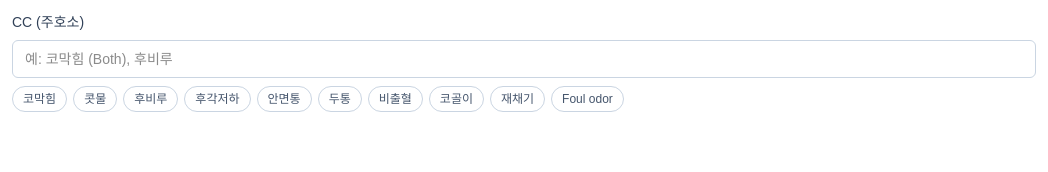
Test case: CcInput › 증상을 누르면 들어가고, 옆에 나온 방향을 고르면 그 증상에만 붙는다
The image size is (1048, 172).
Click the button "코막힘". click: (40, 99)
box: [12,86,67,112]
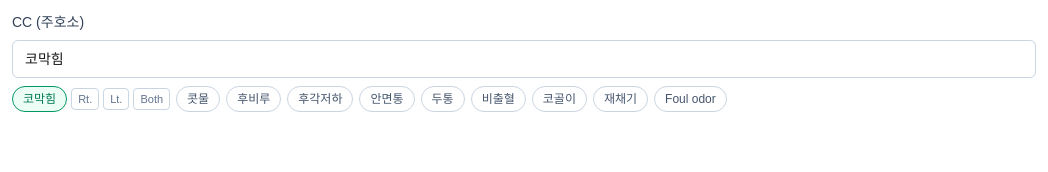
Expected: the field named "chiefComplaint" holds "코막힘", [12,40,1036,78]
Click the button "Both". click: (152, 99)
box: [133,88,170,110]
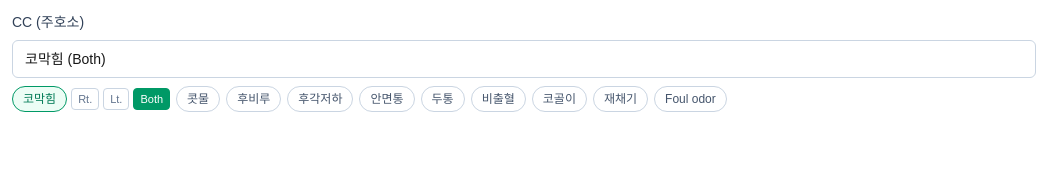
Click the button "후비루". click: (254, 99)
box: [226,86,281,112]
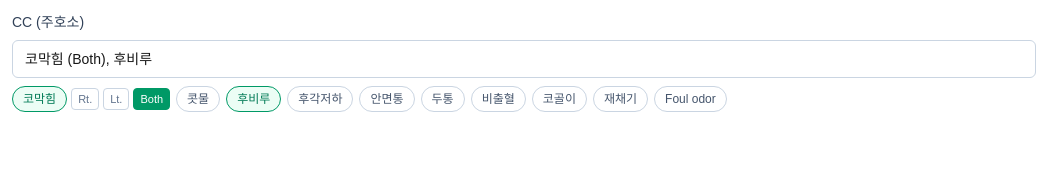
Click the button "Foul odor". click: (690, 99)
box: [654,86,727,112]
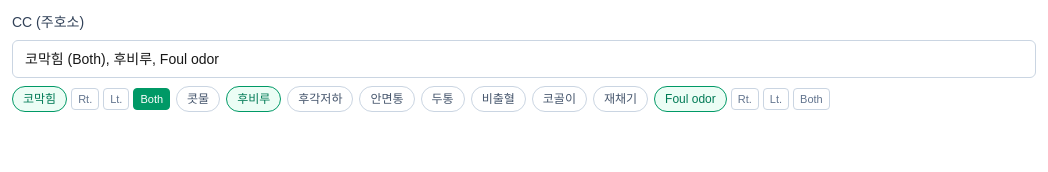
Click the 2nd button "Lt.". click: (776, 99)
box: [763,88,789,110]
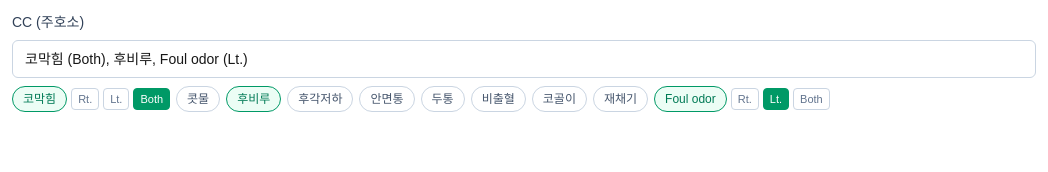
Expected: the field named "chiefComplaint" holds "코막힘 (Both), 후비루, Foul odor (Lt.)", [12,40,1036,78]
